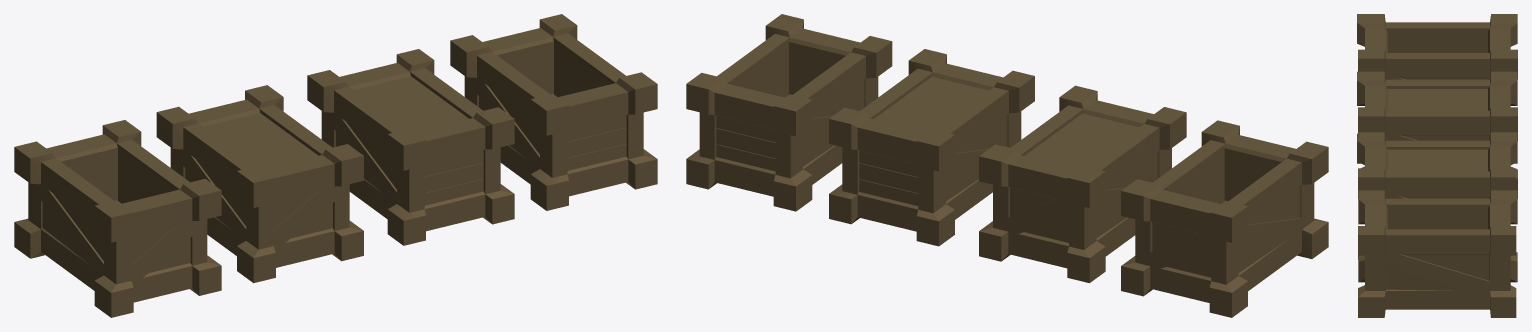
File: Crates.fbx
3 renders of one model, left to right at view 1: azimuth 30°, elevation 25°; view 2: azimuth 150°, elevation 25°; view 3: azimuth 270°, elevation 25°, orthographic. The views are drawn at different scales.
Visible parts, largest first — view 1: CrateOpen_2, Crate_1, CrateOpen_1, Crate_2; view 2: CrateOpen_2, Crate_1, CrateOpen_1, Crate_2; view 3: CrateOpen_1, Crate_2, Crate_1, CrateOpen_2.
Boxes of the visible parts, left/top/right/bottom form: CrateOpen_2: left=14, top=120, right=221, bottom=317; Crate_1: left=307, top=49, right=514, bottom=245; CrateOpen_1: left=450, top=14, right=657, bottom=210; Crate_2: left=156, top=85, right=363, bottom=283; CrateOpen_2: left=1121, top=120, right=1328, bottom=317; Crate_1: left=829, top=49, right=1034, bottom=246; CrateOpen_1: left=686, top=14, right=892, bottom=211; Crate_2: left=979, top=85, right=1186, bottom=283; CrateOpen_1: left=1358, top=190, right=1517, bottom=317; Crate_2: left=1357, top=71, right=1517, bottom=198; Crate_1: left=1358, top=132, right=1517, bottom=259; CrateOpen_2: left=1357, top=14, right=1517, bottom=141.
Size of the model in its own units: 637 by 112 by 196.
